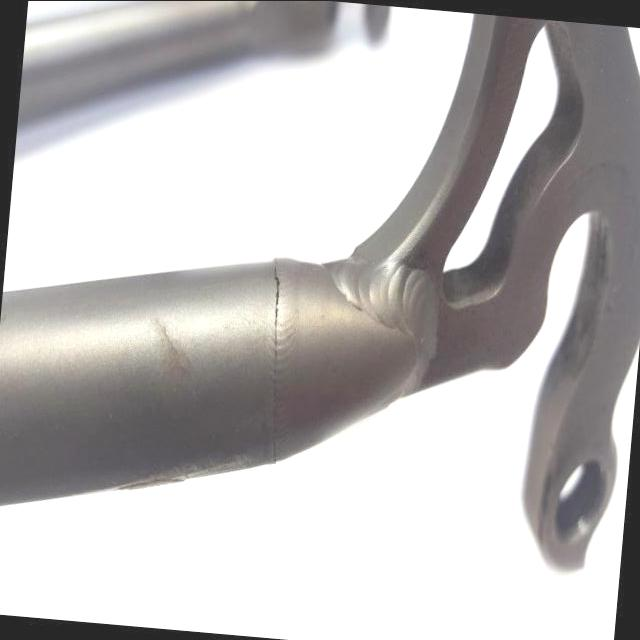defect: (271, 252, 279, 465)
